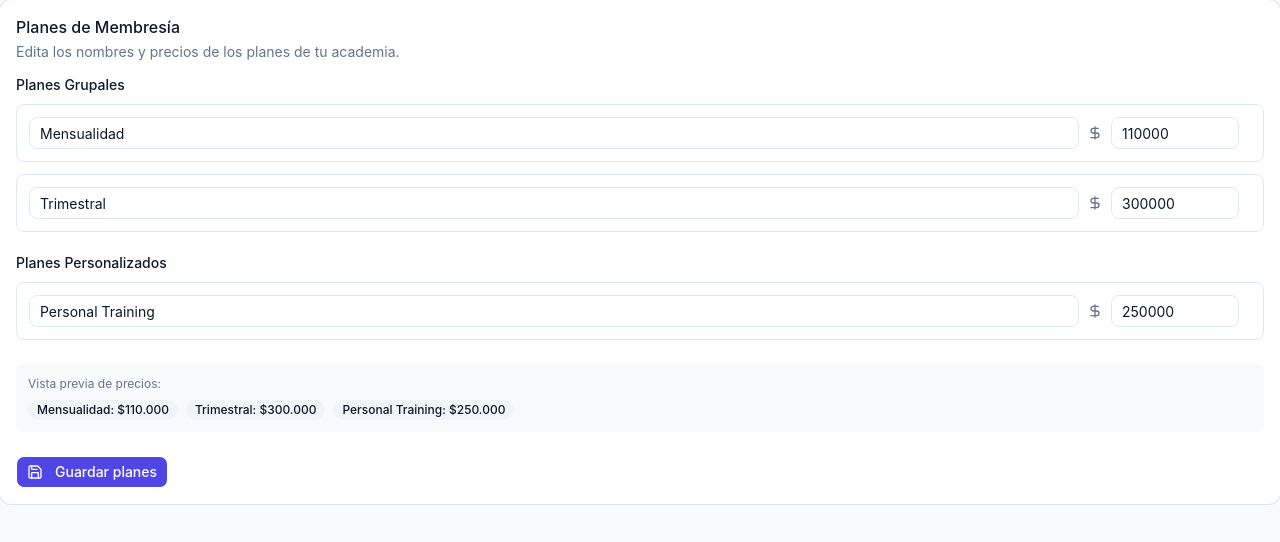
PlanEditor — precio › muestra error con precio no numérico
The width and height of the screenshot is (1280, 542).
Replace the text in the field named "precio del plan plan-mensual" with "abc" at (1175, 133), box [1111,117,1239,149]
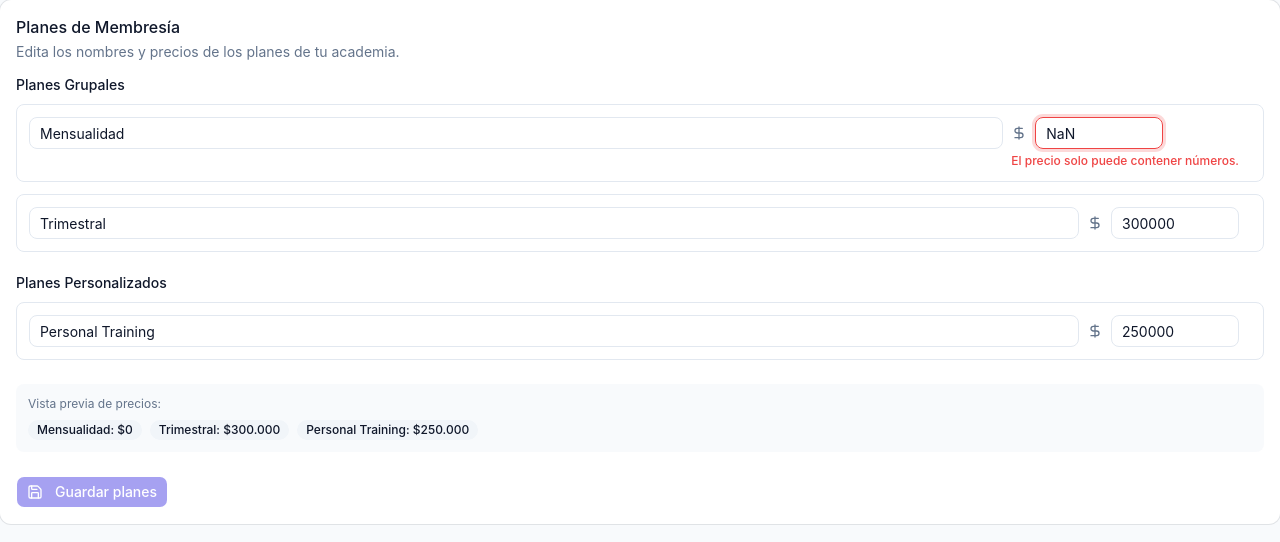
expect the text "El precio solo puede contener números." is shown: met, box [1011,153,1239,169]
